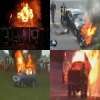fire: (71, 50, 99, 83), (80, 15, 97, 45), (14, 51, 36, 74), (17, 2, 33, 21), (87, 89, 95, 96), (10, 13, 12, 18), (78, 92, 81, 95)
